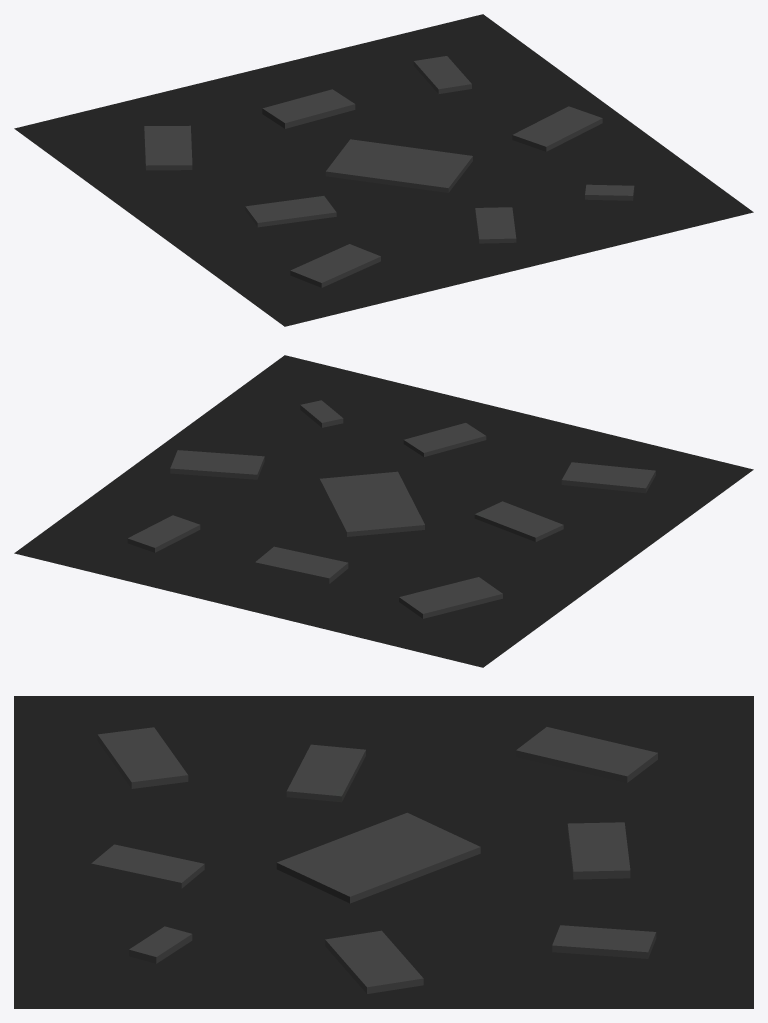
File: Floortile_4.fbx
3 renders of one model, top to bottom at view 1: azimuth 30°, elevation 25°; view 2: azimuth 150°, elevation 25°; view 3: azimuth 270°, elevation 25°, orthographic. The views are drawn at different scales.
Parts seen in each view (by area): view 1: Plane.005; view 2: Plane.005; view 3: Plane.005.
Boxes of the visible parts, bbox=[...] form: Plane.005: bbox=[14, 14, 753, 326]; Plane.005: bbox=[14, 355, 753, 667]; Plane.005: bbox=[14, 696, 753, 1008].
Size of the model in its own units: 400 by 4.69 by 400.
Materials: 1 (1 with a texture image).
